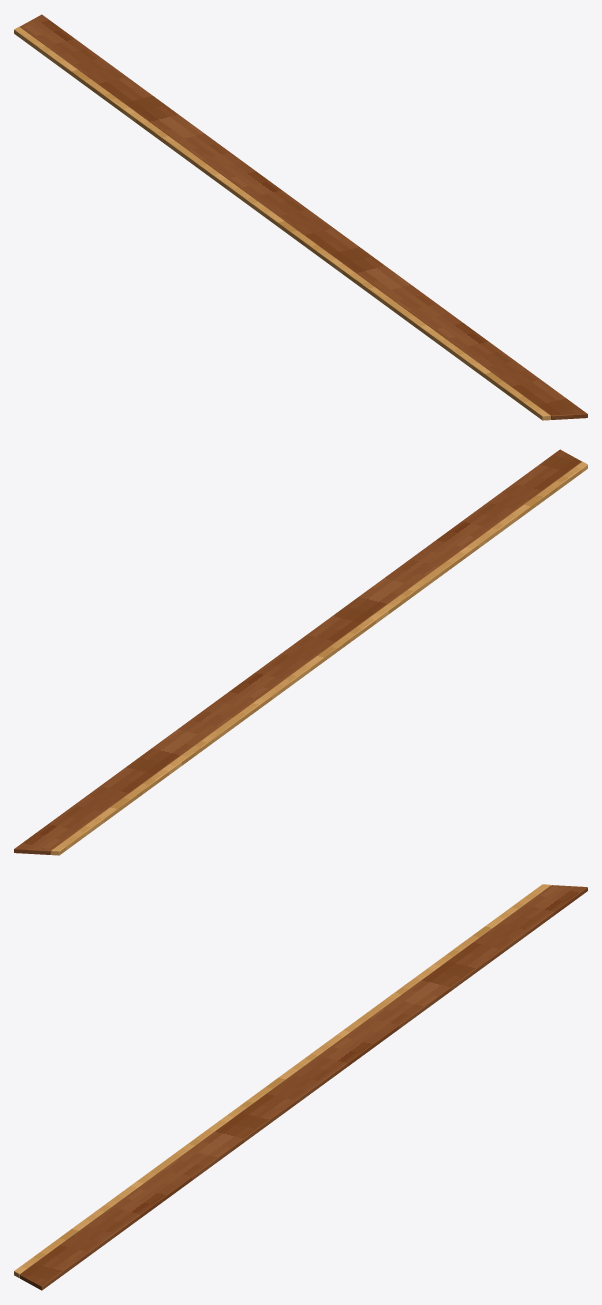
The model's file is Border-2.glb.
The picture shows the model from 3 angles, top to bottom: view 1: azimuth 30°, elevation 25°; view 2: azimuth 150°, elevation 25°; view 3: azimuth 330°, elevation 25°; orthographic projection.
Parts seen in each view (by area): view 1: Border-2; view 2: Border-2; view 3: Border-2.
Boxes of the visible parts, x1,y1,x2,y2 form: Border-2: [14, 14, 587, 420]; Border-2: [14, 449, 587, 855]; Border-2: [14, 884, 587, 1290].
Bounding box in the file's own units: 0.13 × 0.016 × 3.3.
Materials: 2 (2 with a texture image).
